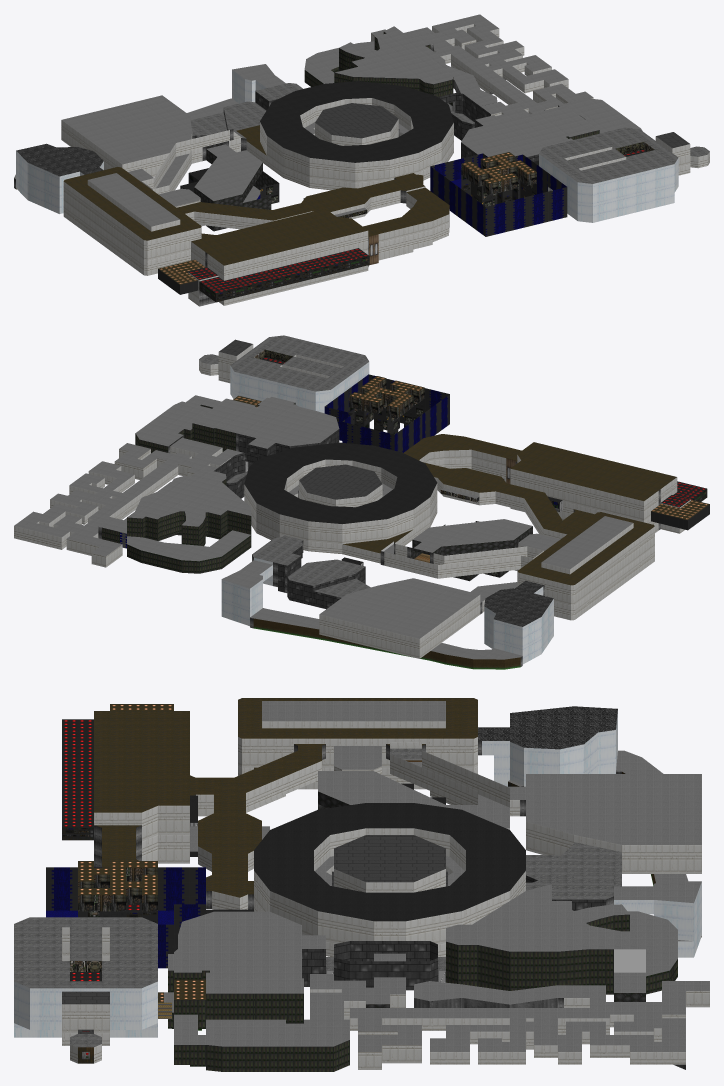
File: Mapa 4 sin puertas vF(1).fbx
The picture shows the model from 3 angles, top to bottom: view 1: azimuth 30°, elevation 25°; view 2: azimuth 150°, elevation 25°; view 3: azimuth 270°, elevation 25°; orthographic projection. The views are drawn at different scales.
Visible parts, largest first — view 1: E1M4; view 2: E1M4; view 3: E1M4.
Boxes of the visible parts, x1,y1,x2,y2 form: E1M4: (14,14,709,306); E1M4: (14,335,709,669); E1M4: (14,698,709,1071).
Bounding box in the file's own units: 51520 × 6917 × 41503.
Materials: 67 (66 with a texture image).
